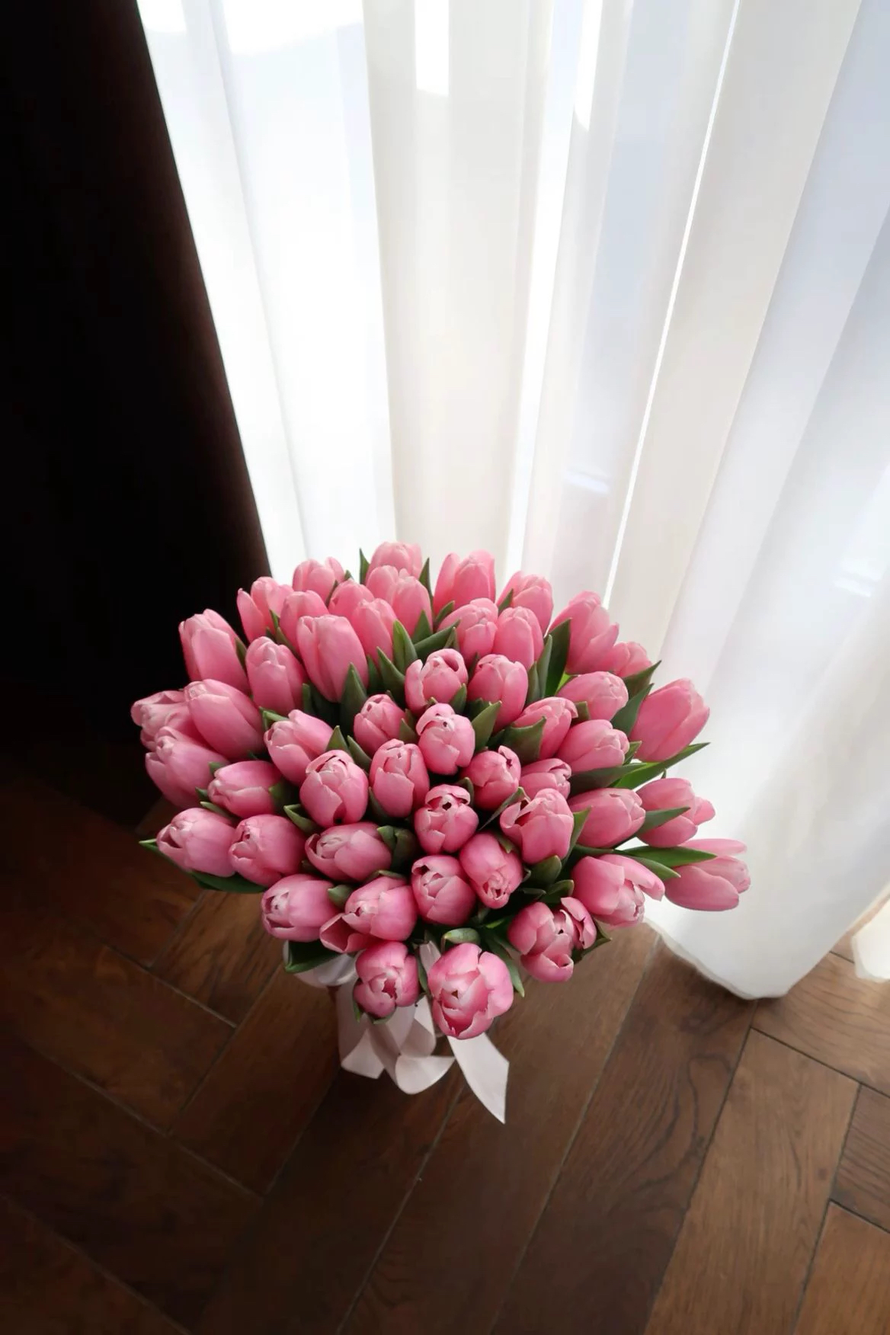tulip: (633, 833, 754, 915), (424, 940, 518, 1043), (503, 890, 600, 988), (559, 849, 668, 932), (293, 606, 378, 709), (179, 669, 272, 763), (624, 674, 717, 765), (142, 723, 231, 816), (252, 866, 347, 953), (287, 815, 403, 886), (259, 704, 352, 792), (221, 802, 310, 892), (341, 928, 427, 1021), (176, 603, 256, 700), (537, 593, 623, 675), (149, 810, 246, 882), (290, 744, 373, 828), (229, 562, 300, 660), (238, 629, 311, 724), (624, 775, 718, 847), (205, 748, 300, 818), (497, 786, 576, 868), (402, 844, 477, 930), (339, 872, 423, 946), (563, 784, 648, 856), (459, 825, 529, 912), (503, 693, 582, 768), (363, 736, 431, 821), (456, 653, 530, 730), (429, 537, 498, 619), (349, 587, 413, 675), (379, 563, 437, 657), (432, 595, 508, 665), (411, 779, 480, 856), (128, 686, 211, 749), (401, 643, 472, 714), (553, 666, 633, 727), (413, 702, 477, 778), (461, 740, 527, 811), (558, 716, 634, 776), (491, 602, 549, 677), (344, 687, 414, 748), (493, 565, 559, 623), (288, 547, 352, 602), (272, 583, 327, 647), (517, 756, 575, 807), (357, 536, 429, 573), (602, 639, 656, 683), (327, 573, 378, 618)
